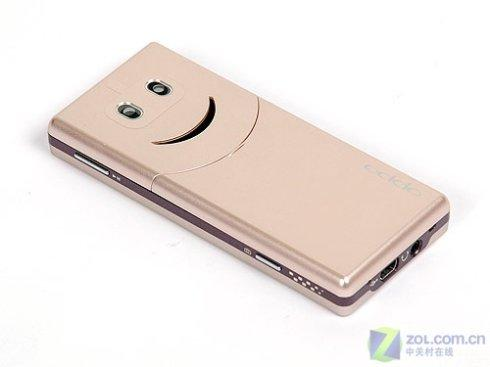phone: (48, 39, 452, 318)
